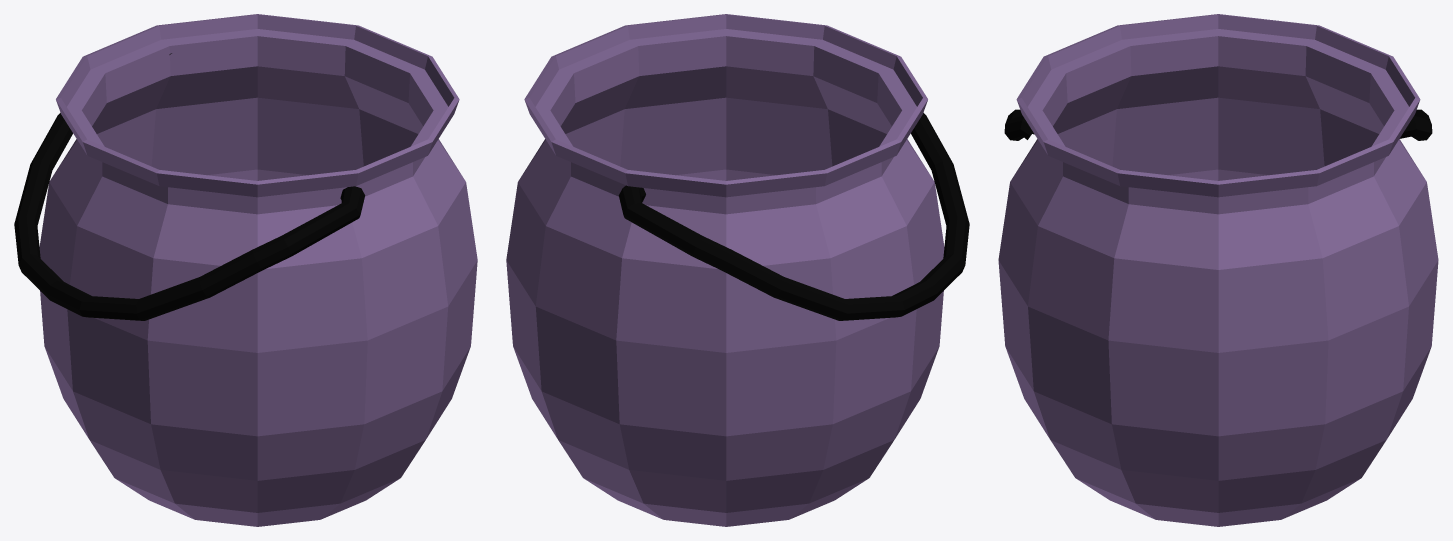
Rendered from Cauldron_02.fbx.
3 views of the same model, side by side, from view 1: azimuth 30°, elevation 25°; view 2: azimuth 150°, elevation 25°; view 3: azimuth 270°, elevation 25° (orthographic).
Visible parts, largest first — view 1: Cauldron_02; view 2: Cauldron_02; view 3: Cauldron_02.
Boxes of the visible parts, x1=… form: Cauldron_02: x1=14, y1=14, x2=477, y2=526; Cauldron_02: x1=506, y1=14, x2=969, y2=526; Cauldron_02: x1=998, y1=14, x2=1438, y2=526.
Size of the model in its own units: 41.86 by 38.96 by 39.74.
